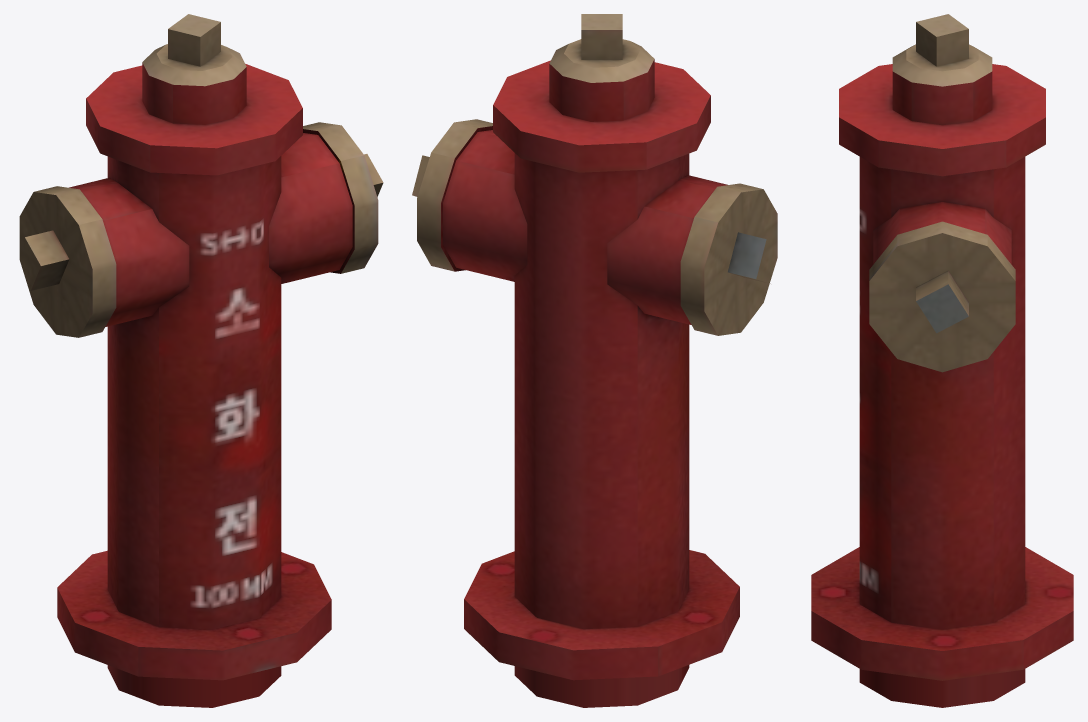
File: hydrantRed.gltf
3 renders of one model, left to right at view 1: azimuth 30°, elevation 25°; view 2: azimuth 150°, elevation 25°; view 3: azimuth 270°, elevation 25°, orthographic.
Visible parts, largest first — view 1: hydrantRed; view 2: hydrantRed; view 3: hydrantRed.
Boxes of the visible parts, left/top/right/bottom form: hydrantRed: left=19, top=14, right=383, bottom=707; hydrantRed: left=412, top=14, right=777, bottom=707; hydrantRed: left=811, top=14, right=1073, bottom=707.
Bounding box in the file's own units: 2.29 × 4.13 × 1.52.
Materials: 1 (1 with a texture image).
